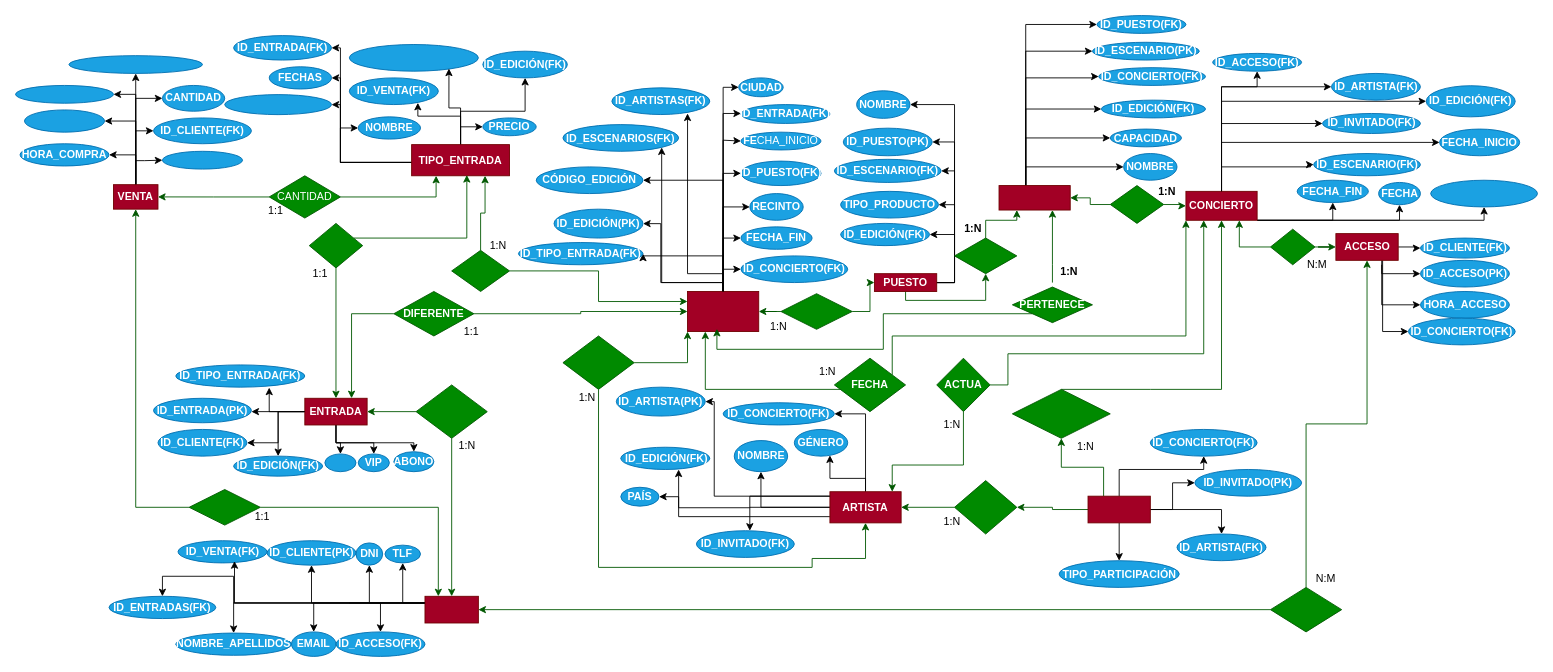
This 1553x672 diagram has some shape labels left out. The shapes that lost their labels are listed below. From the top down, each one's centre as x and y in pixels, then its label:
the point at 135,64: ID_TIPO_ENTRADAS(FK)
the point at 413,57: ID_TIPO_ENTRADA(PK)
the point at 64,94: FECHA_COMPRA
the point at 278,104: AFORO_MÁXIMO
the point at 64,120: ID_VENTA(PK)
the point at 202,159: FORMA_PAGO
the point at 1034,197: ESCENARIO
the point at 1136,204: TIENE
the point at 1483,193: ID_CONCIERTO(PK)
the point at 335,245: TIPOS
the point at 985,255: SITUADO
the point at 1292,246: HAY
the point at 480,270: DEFINE
the point at 723,311: EDICIÓN
the point at 816,311: ASOCIADO
the point at 598,362: PARTICIPA
the point at 451,411: COMPRAR
the point at 1060,413: PUEDE_HABER
the point at 340,462: DÍA
the point at 224,507: REGISTRO
the point at 985,507: LLEVA
the point at 1118,509: INVITADO
the point at 451,609: CLIENTE
the point at 1306,609: ENTRA
